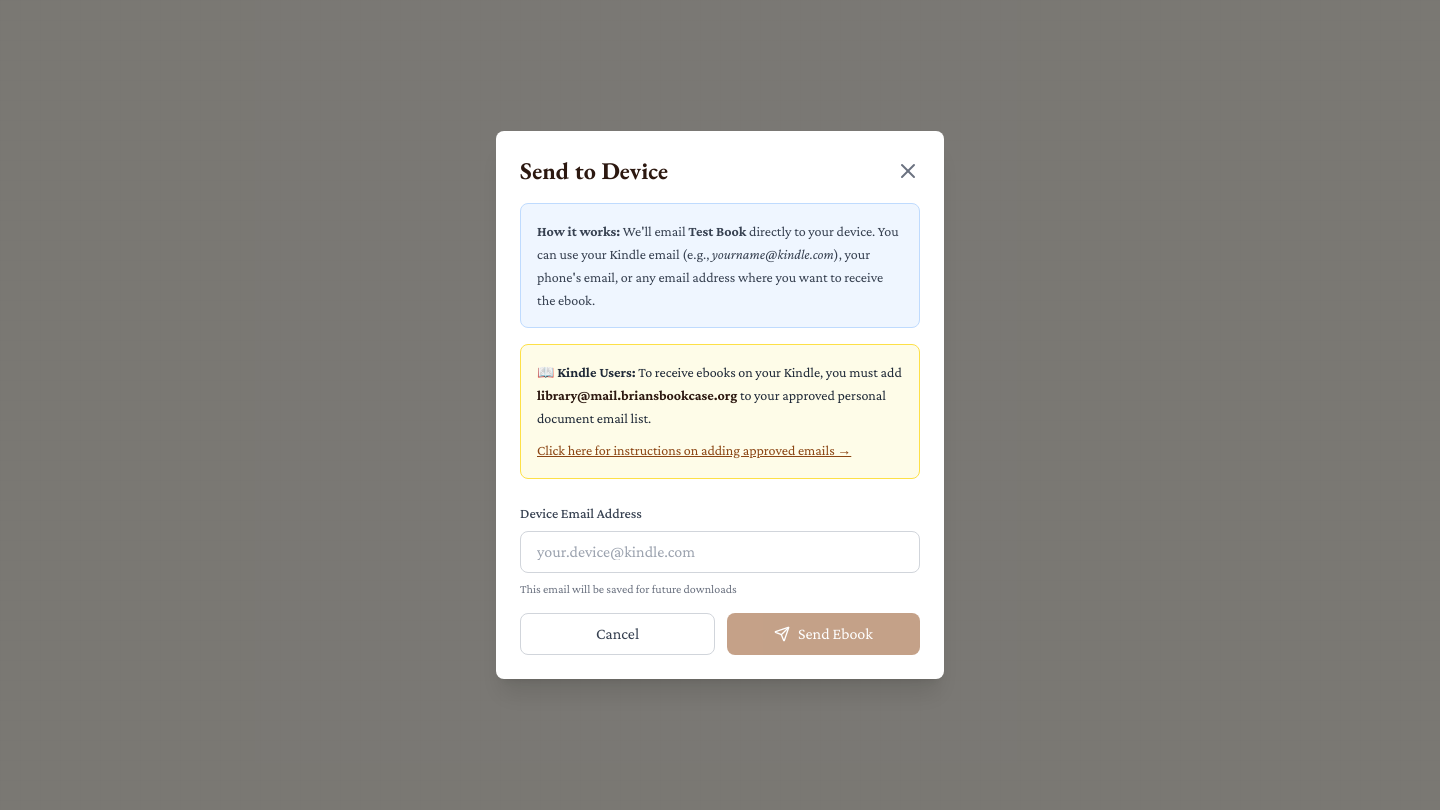
it: SendToDeviceModal › should show loading state during submission
Type "test@kindle.com" into the field with placeholder "your.device@kindle.com". click: {"x": 720, "y": 552}
box: [520,531,920,573]
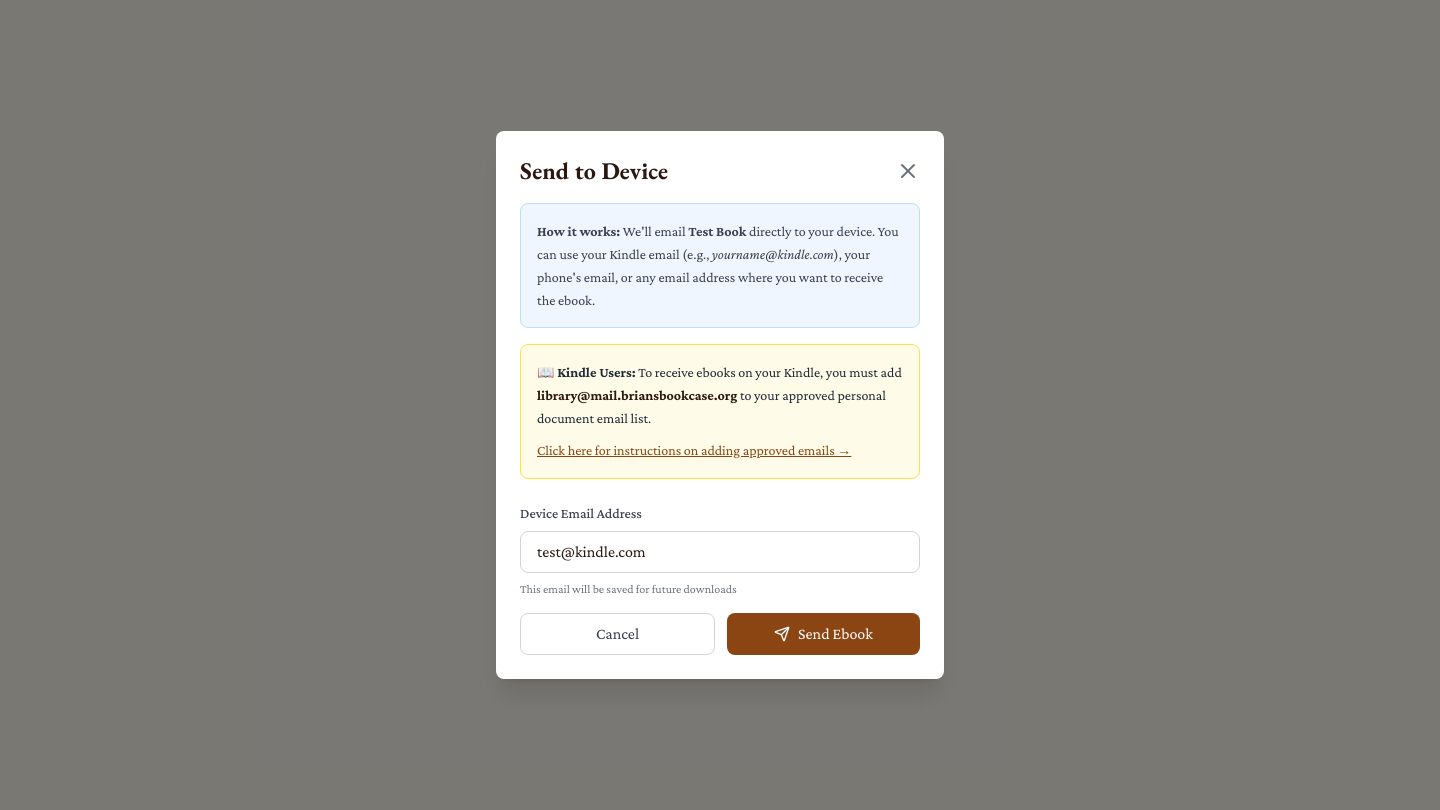
Click the button "Send Ebook". click: {"x": 824, "y": 634}
box: [727,613,920,655]
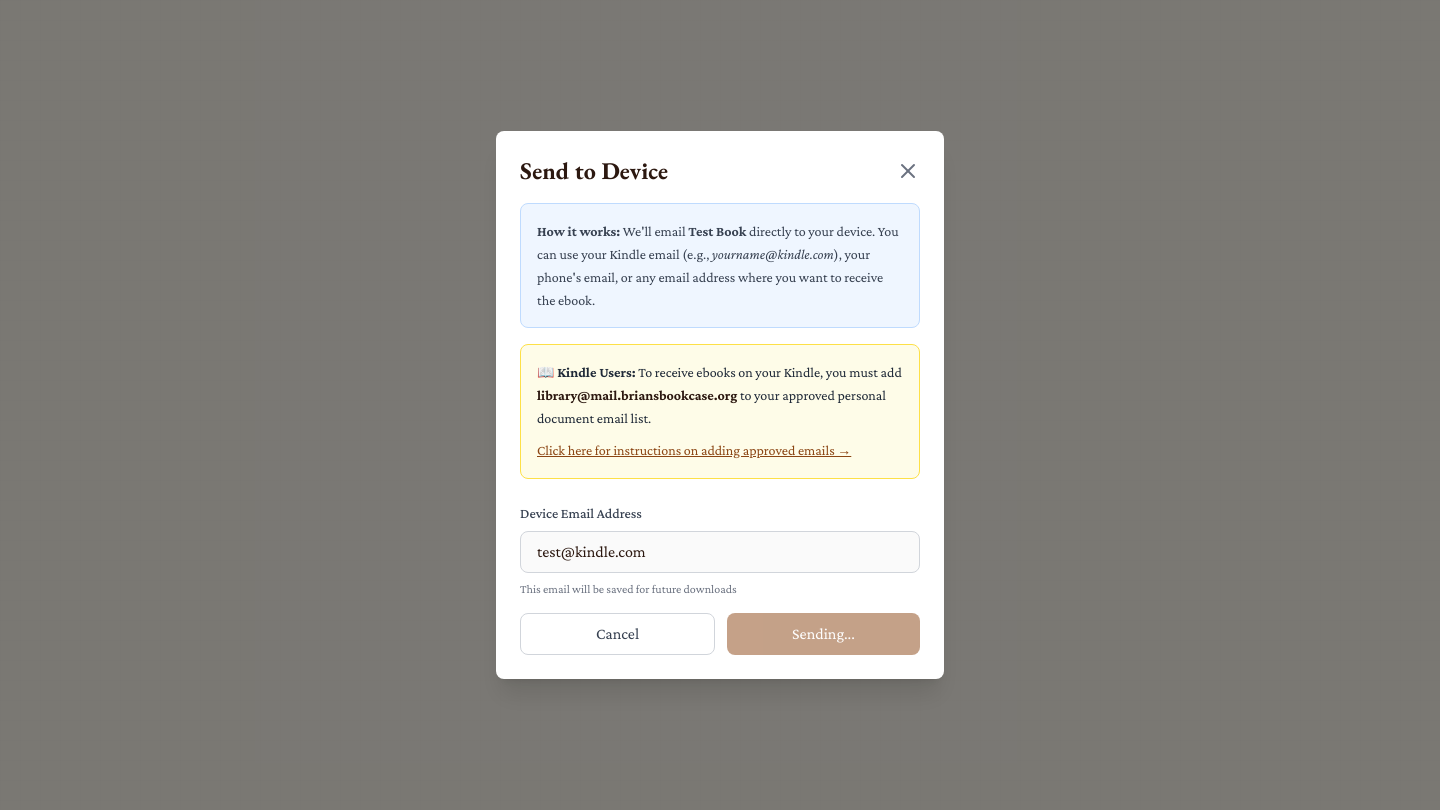
Expected: the button "Sending..." is shown, [727,613,920,655]
